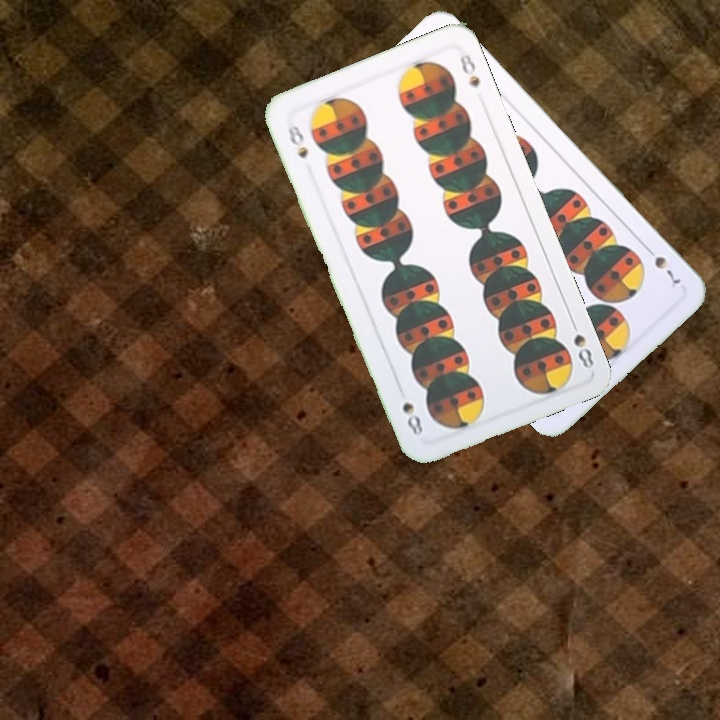S7: (640, 241, 684, 287)
S8: (566, 314, 597, 372), (283, 120, 311, 161)
